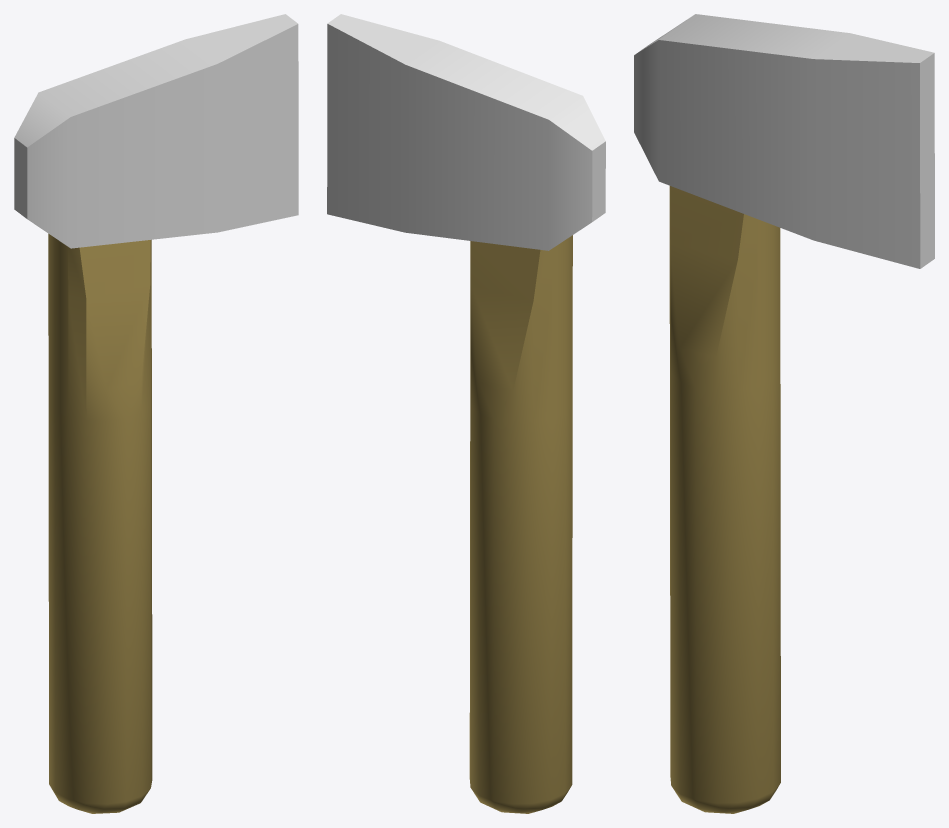
The picture shows the model from 3 angles, left to right: view 1: azimuth 30°, elevation 25°; view 2: azimuth 150°, elevation 25°; view 3: azimuth 330°, elevation 25°; orthographic projection. The views are drawn at different scales.
Visible parts, largest first — view 1: SOLID-WHITE_115-material.001, SOLID-WHITE_115-material.002; view 2: SOLID-WHITE_115-material.001, SOLID-WHITE_115-material.002; view 3: SOLID-WHITE_115-material.001, SOLID-WHITE_115-material.002.
Boxes of the visible parts, x1=… form: SOLID-WHITE_115-material.001: x1=48, y1=233, x2=152, y2=813; SOLID-WHITE_115-material.002: x1=14, y1=14, x2=298, y2=248; SOLID-WHITE_115-material.001: x1=469, y1=235, x2=572, y2=813; SOLID-WHITE_115-material.002: x1=327, y1=14, x2=605, y2=250; SOLID-WHITE_115-material.001: x1=669, y1=186, x2=780, y2=813; SOLID-WHITE_115-material.002: x1=634, y1=14, x2=934, y2=268.
Bounding box in the file's own units: 41.09 × 108 × 14.05.
